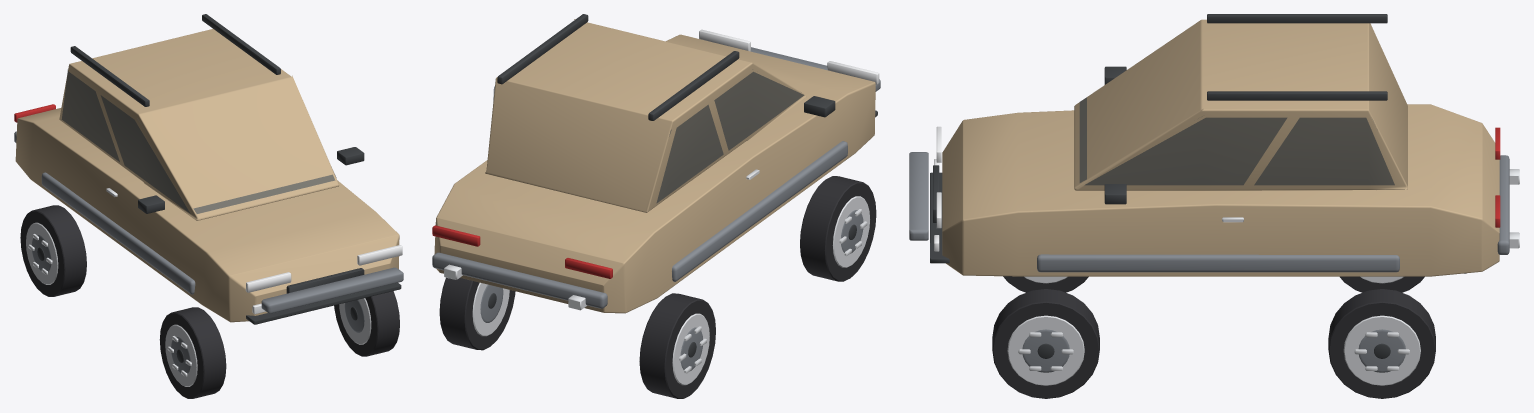
The model's file is wasteland-4x4.glb.
3 renders of one model, left to right at view 1: azimuth 30°, elevation 25°; view 2: azimuth 150°, elevation 25°; view 3: azimuth 270°, elevation 25°, orthographic. The views are drawn at different scales.
Parts seen in each view (by area): view 1: paint, tyre, accent, glass, trim, rim, head; view 2: paint, tyre, accent, glass, rim, trim, head, tail; view 3: paint, glass, tyre, accent, rim, trim, head.
Boxes of the visible parts, x1,y1,x2,y2 form: paint: (15,29,399,322); tyre: (20,205,399,398); accent: (14,131,403,374); glass: (62,70,336,213); trim: (37,14,401,362); rim: (26,188,371,386); head: (245,245,402,314); paint: (434,19,875,313); tyre: (439,176,876,398); accent: (432,47,880,370); glass: (493,72,804,202); rim: (444,169,869,385); trim: (488,14,877,357); head: (699,29,879,84); tail: (432,225,612,278); paint: (942,19,1499,276); glass: (1079,97,1394,185); tyre: (992,276,1435,398); accent: (909,152,1509,372); rim: (1007,169,1519,385); trim: (930,14,1466,358); head: (934,126,941,251).
Bounding box in the file's own units: 2.49 × 2.6 × 4.99.
